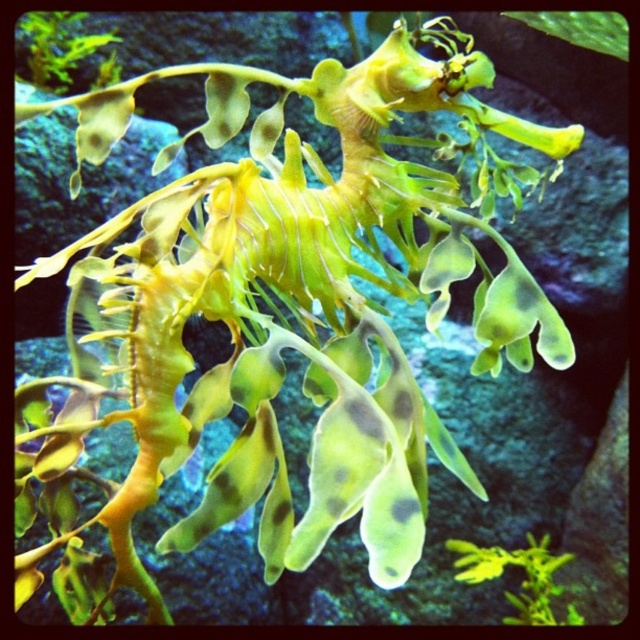Fish: (15, 26, 584, 625)
